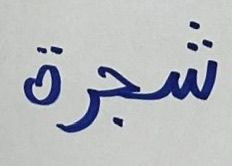jeem: (97, 55, 146, 128)
reh: (62, 77, 96, 134)
sheen: (150, 19, 219, 106)
teh_marbota: (23, 35, 61, 107)
